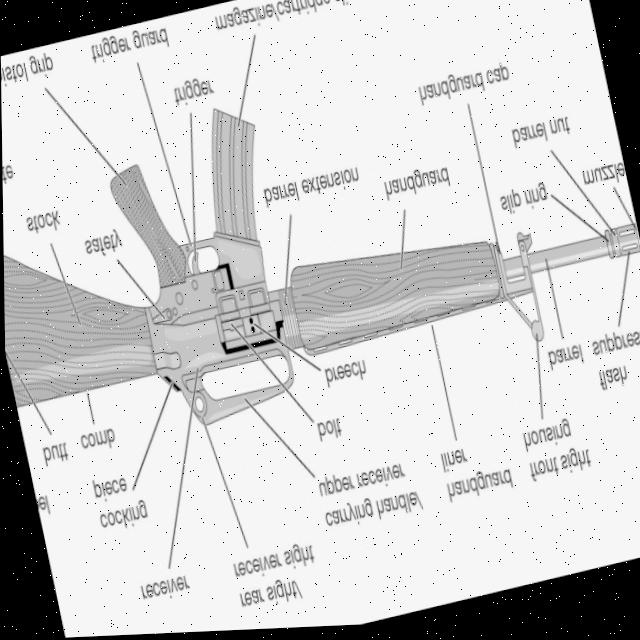firearm: (0, 18, 640, 472)
